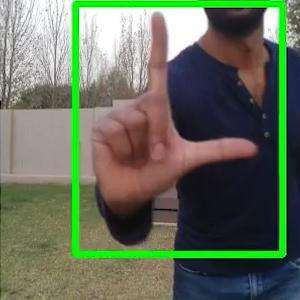land_hand: (90, 7, 261, 203)
